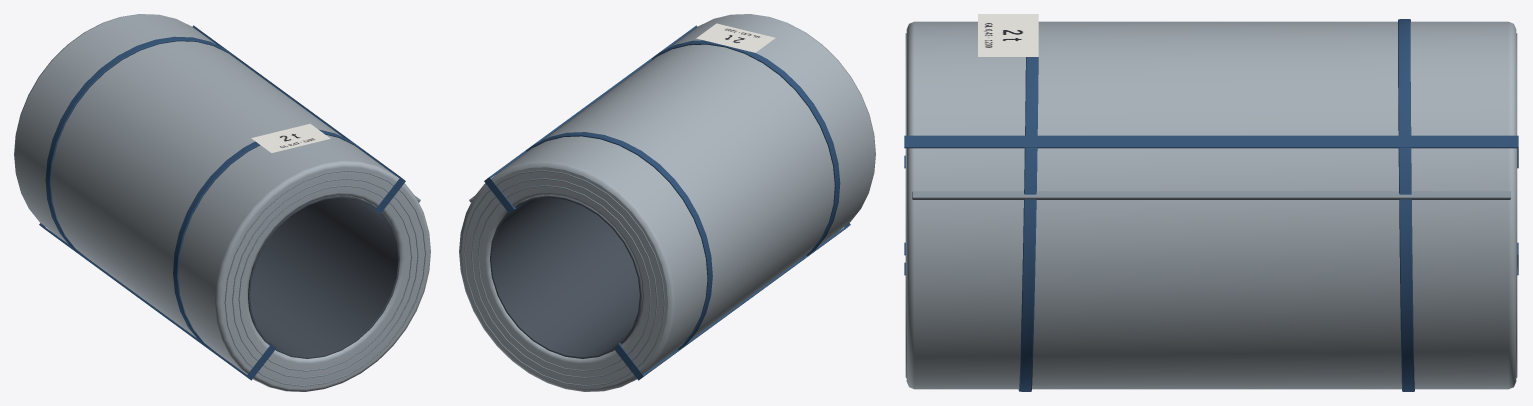
Rendered from bobina_2t.glb.
3 renders of one model, left to right at view 1: azimuth 30°, elevation 25°; view 2: azimuth 150°, elevation 25°; view 3: azimuth 270°, elevation 25°, orthographic. The views are drawn at different scales.
Parts seen in each view (by area): view 1: corpo, furo, cinta (×2), espira (×3), cinta_furo (×2), etiqueta; view 2: corpo, furo, cinta (×2), espira (×3), cinta_furo (×2), etiqueta; view 3: corpo, cinta (×2), cinta_furo, ponta_chapa, etiqueta, espira (×2).
Boxes of the visible parts, x1,y1,x2,y2 form: corpo: (14, 14, 430, 391); furo: (248, 195, 399, 358); cinta (×2): (45, 36, 360, 351); espira (×3): (224, 170, 425, 386); cinta_furo (×2): (39, 25, 405, 380); etiqueta: (251, 123, 330, 152); corpo: (459, 14, 875, 391); furo: (490, 195, 641, 358); cinta (×2): (524, 40, 840, 353); espira (×3): (464, 170, 665, 386); cinta_furo (×2): (484, 25, 850, 380); etiqueta: (696, 23, 775, 52); corpo: (906, 21, 1516, 389); cinta (×2): (1018, 19, 1414, 391); cinta_furo: (904, 135, 1518, 168); ponta_chapa: (912, 191, 1510, 199); etiqueta: (978, 14, 1038, 56); espira (×2): (905, 33, 1517, 377).
Bounding box in the file's own units: 0.7369 × 0.738 × 1.21.
Materials: 5 (1 with a texture image).
